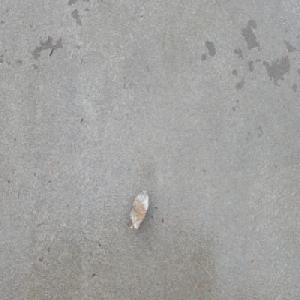Rock: (128, 188, 149, 233)
